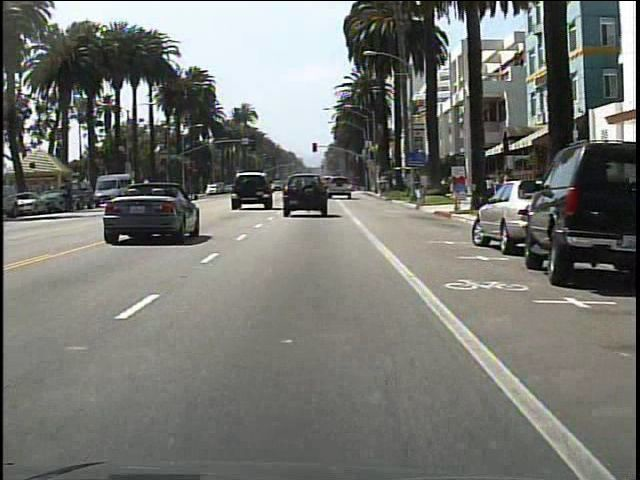person: (63, 178, 79, 216)
